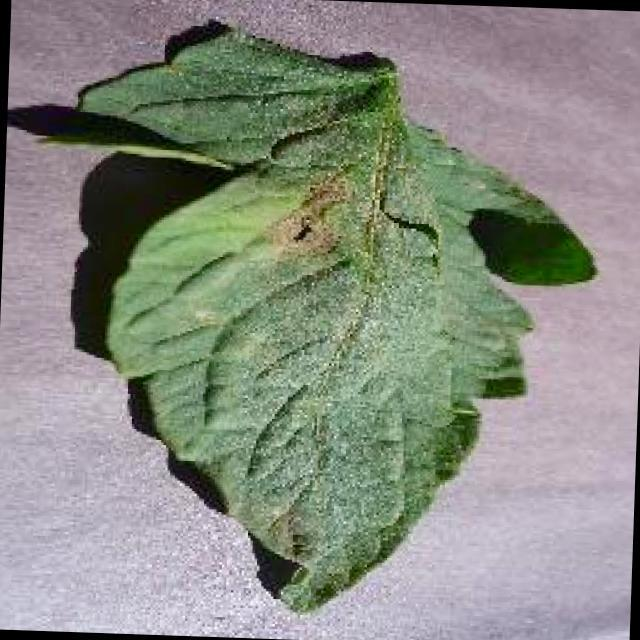Tomato Early blight leaf: (61, 21, 606, 624)
